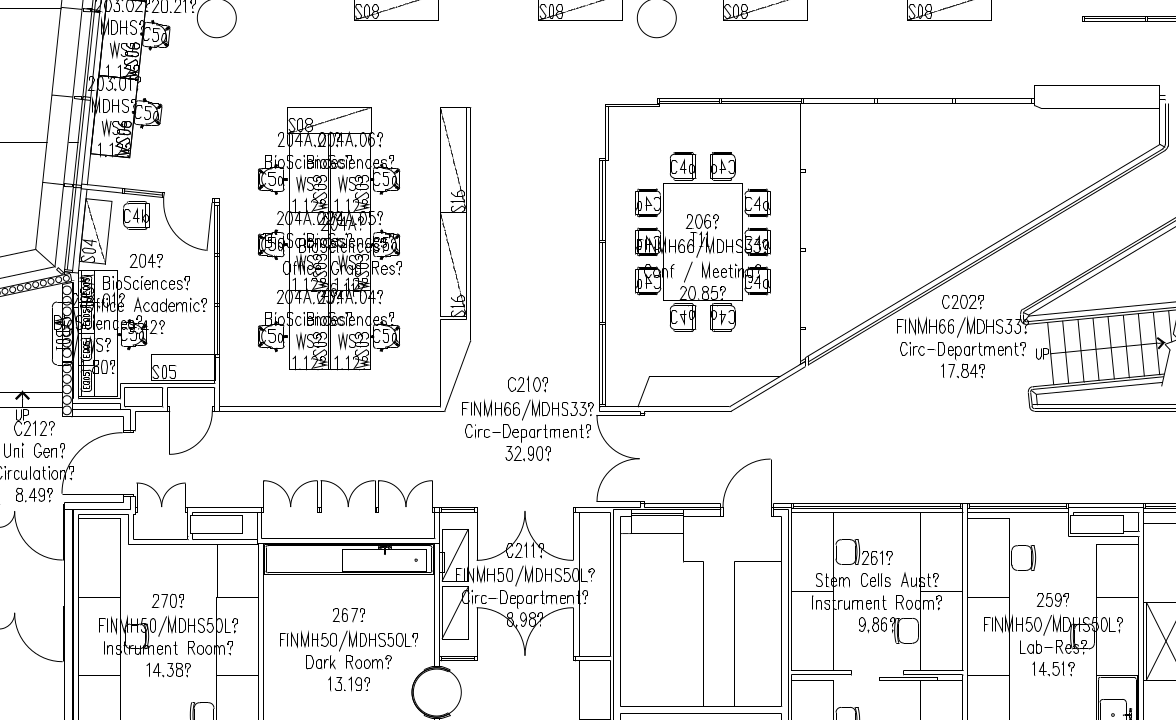door: (55, 426, 122, 496), (156, 179, 211, 253), (523, 596, 578, 670), (524, 493, 576, 568), (473, 493, 525, 568), (473, 595, 525, 670), (719, 453, 778, 512), (13, 506, 65, 566), (11, 602, 63, 662), (166, 403, 215, 459), (593, 412, 646, 458), (591, 457, 644, 503), (259, 473, 289, 509), (288, 473, 318, 509), (319, 473, 349, 509), (346, 474, 376, 510), (376, 473, 406, 509), (405, 473, 435, 509), (162, 478, 192, 514), (134, 475, 164, 511)
